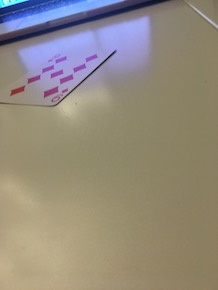NineOfDiamonds: (1, 49, 117, 108)
